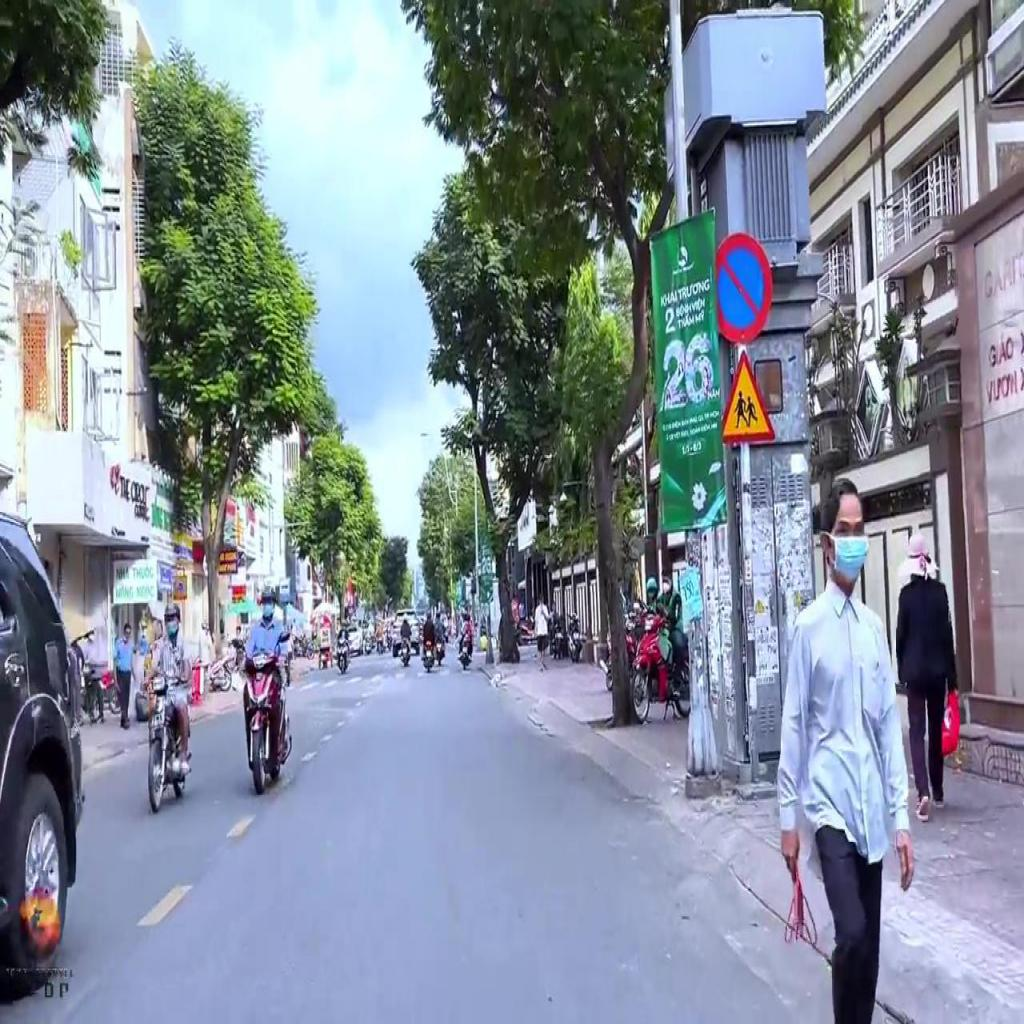cam_do_xe: (714, 232, 774, 346)
chu_y_tre_em: (721, 348, 776, 442)
